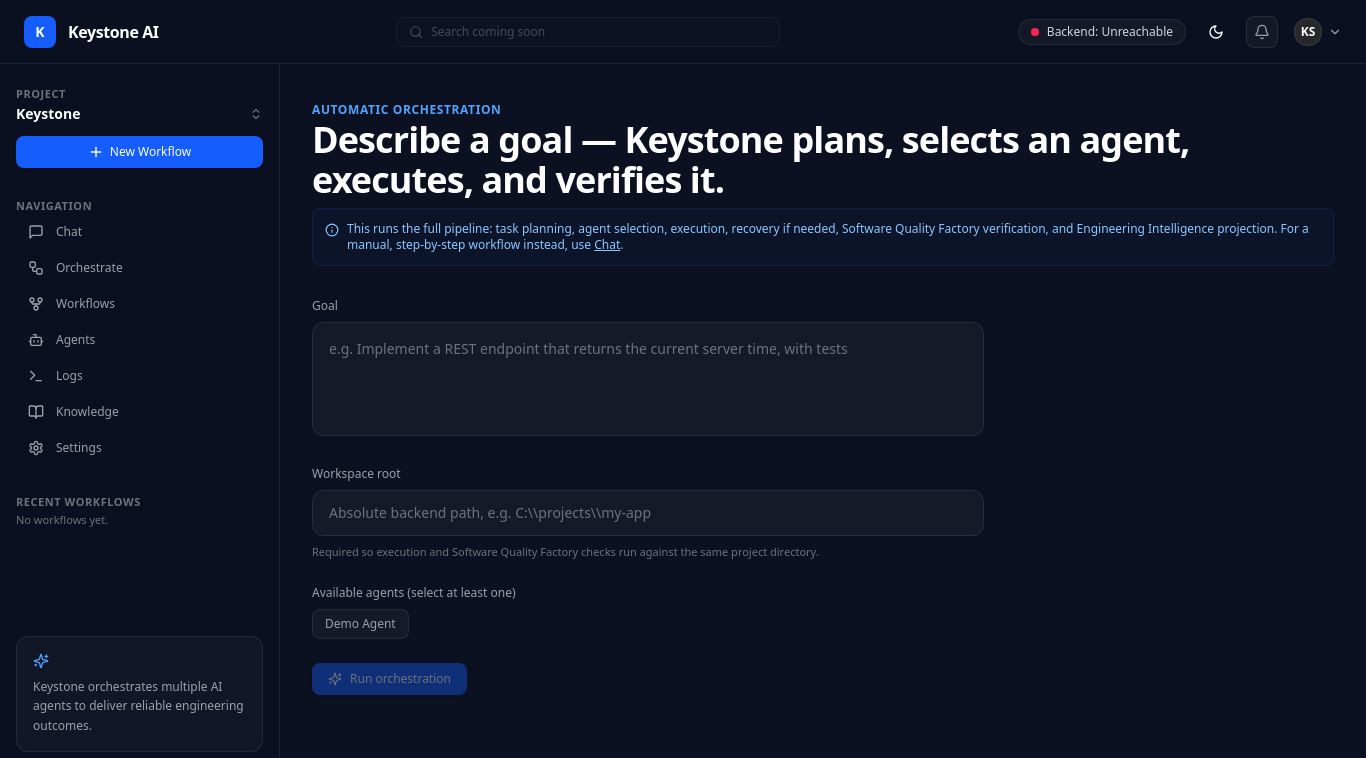
Test: OrchestratePage › shows a rejected quality verdict without claiming success
Type "Implement a REST endpoint with tests" into the text box labelled "Goal".
click(648, 379); type("Implement a REST endpoint with tests")  # box [312, 322, 984, 436]
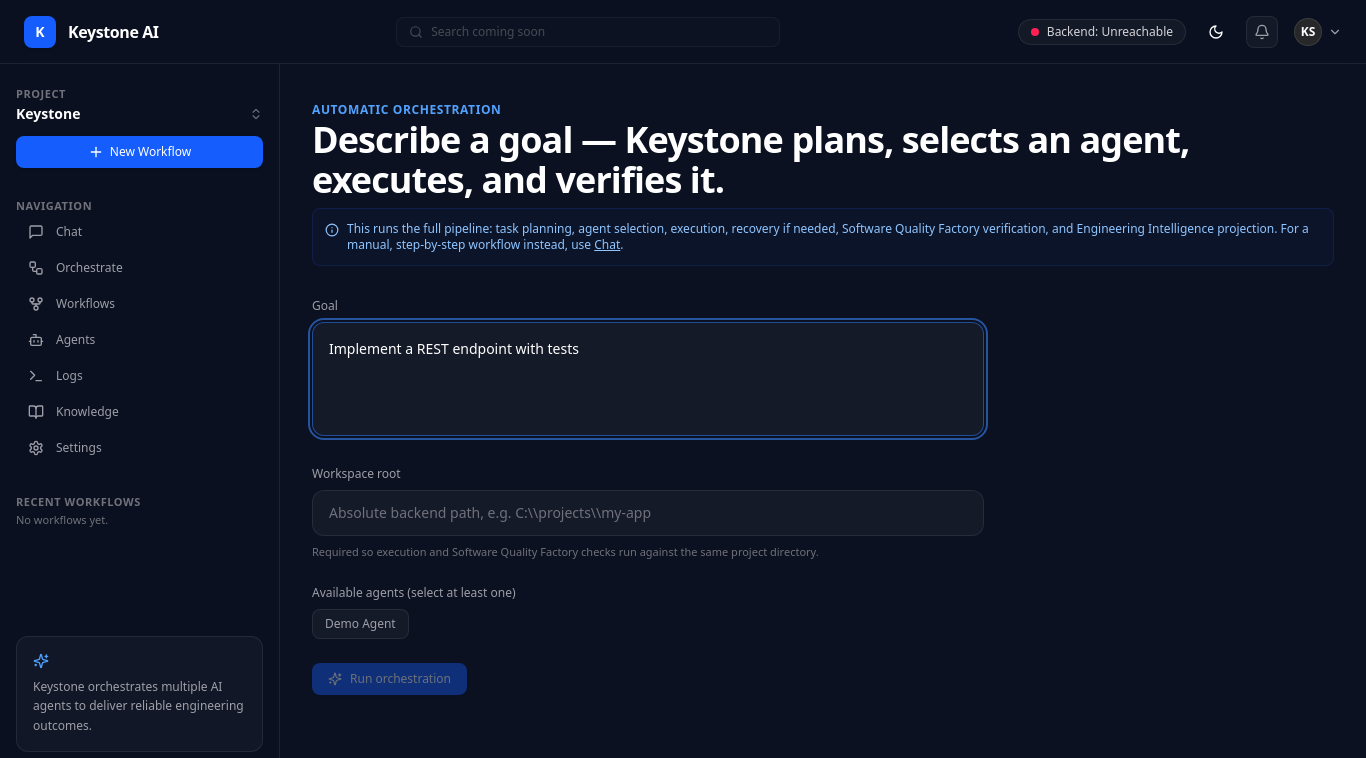
Type "C:\\projects\\demo" into the field labelled "Workspace root".
click(648, 513); type("C:\\projects\\demo")  # box [312, 490, 984, 536]
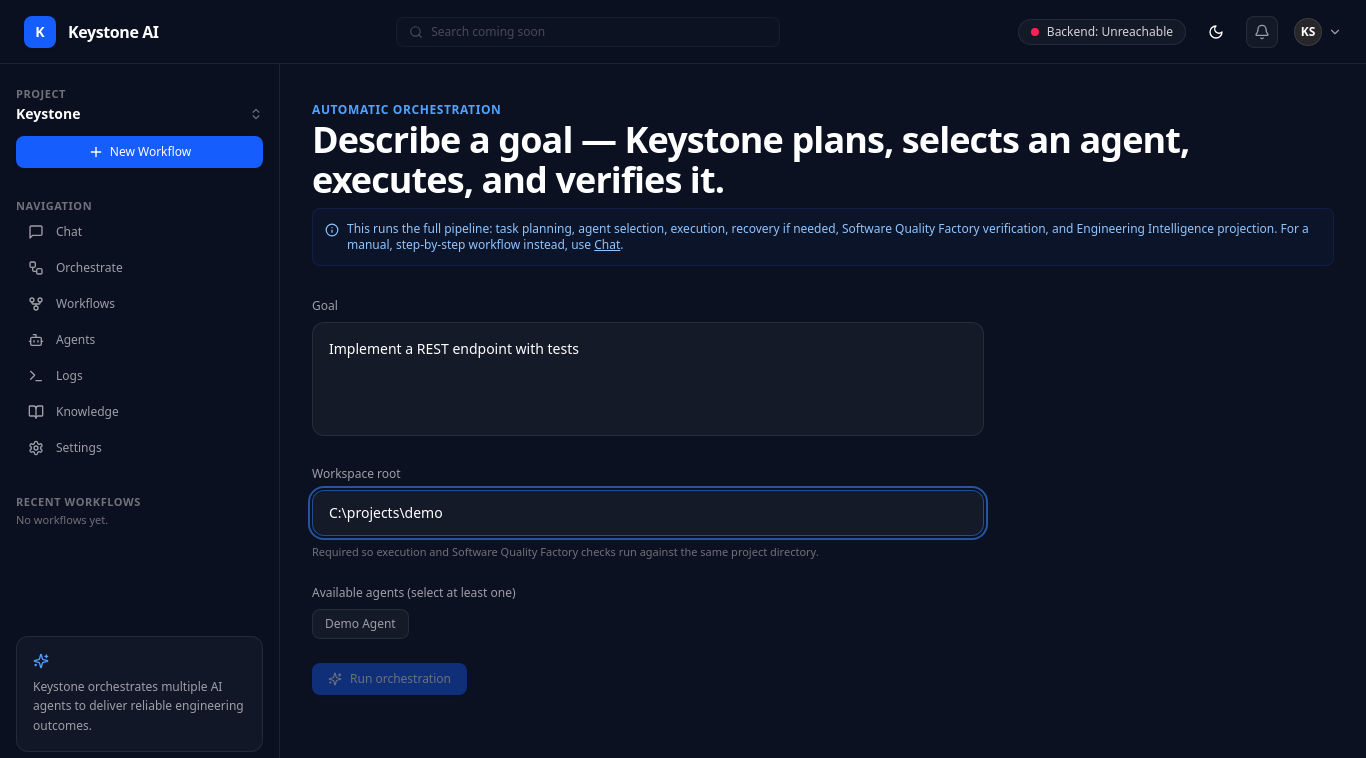
Click the button "Demo Agent".
click(360, 624)  # box [312, 608, 409, 638]
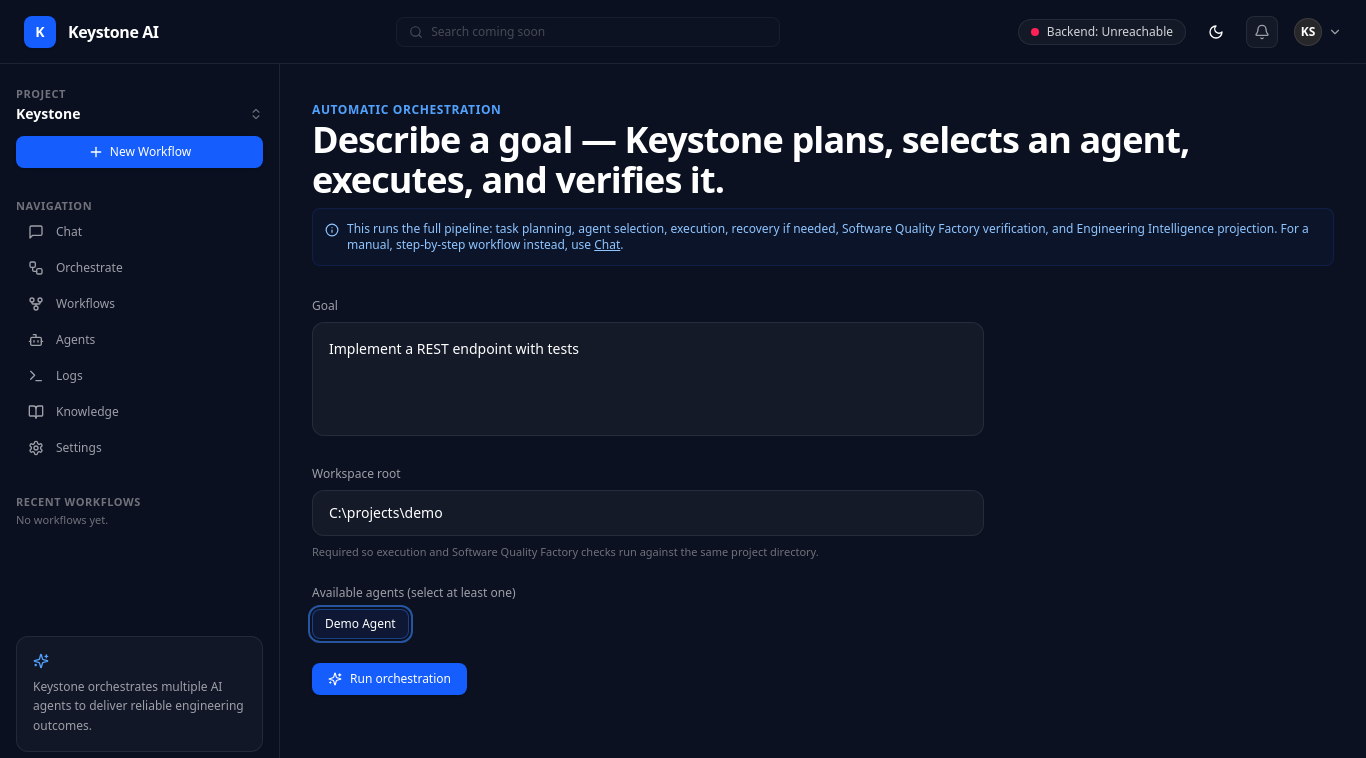
Click the button "Run orchestration".
click(390, 678)  # box [312, 662, 467, 694]
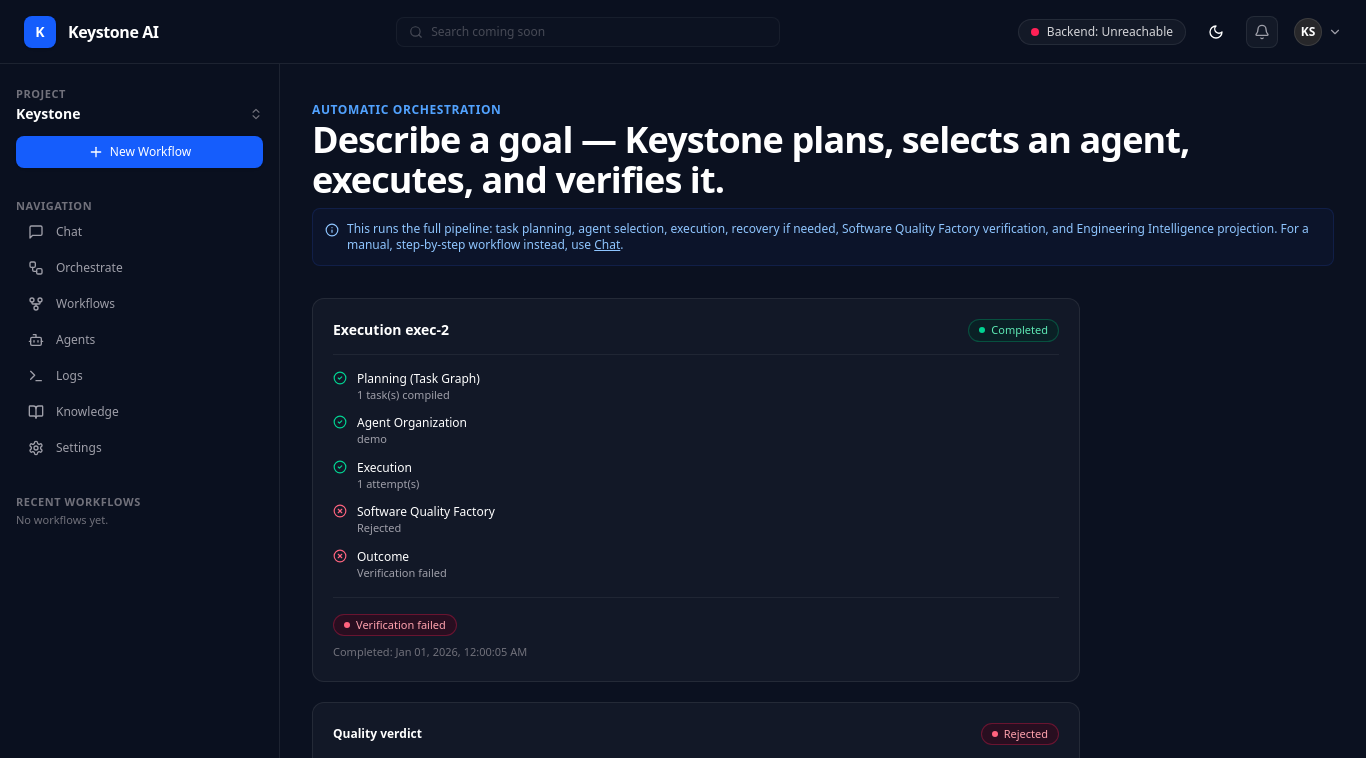
expect the text "Verification failed" below "1 attempt(s)" is shown: met, box [357, 564, 447, 580]
